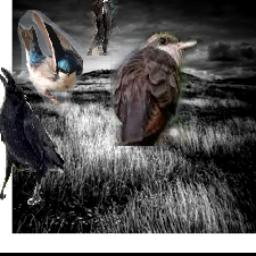Crow: (0, 68, 64, 206)
Cuckoo: (110, 33, 197, 147)
Swallow: (17, 10, 83, 106)
Woodpecker: (86, 0, 118, 56)
